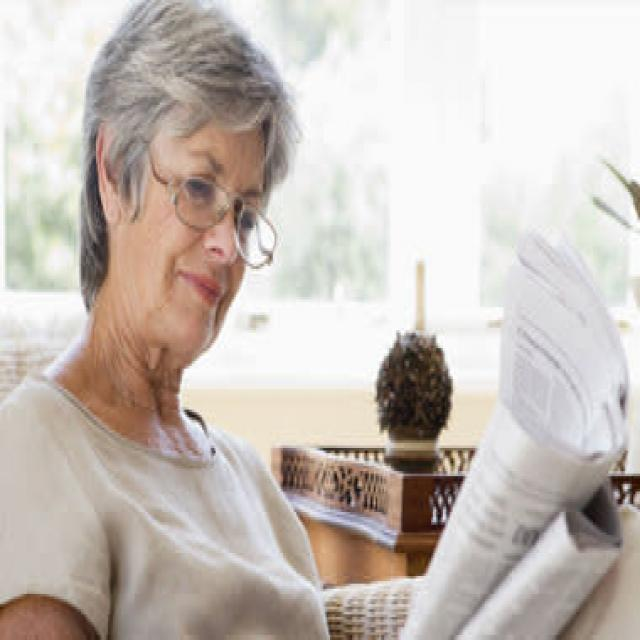Glasses: (138, 128, 283, 279)
